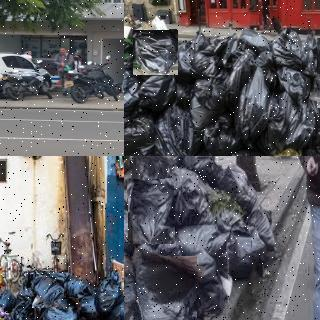Garbage: (124, 251, 201, 320), (178, 218, 262, 281), (236, 60, 290, 150), (128, 179, 175, 244), (184, 248, 227, 316), (165, 176, 214, 225), (188, 75, 227, 127), (133, 30, 178, 75), (216, 164, 256, 212), (124, 108, 156, 156), (96, 270, 124, 314), (32, 274, 64, 308), (43, 296, 80, 320), (19, 265, 42, 298), (5, 294, 34, 320), (76, 289, 99, 320), (64, 277, 95, 297), (106, 299, 124, 320)
